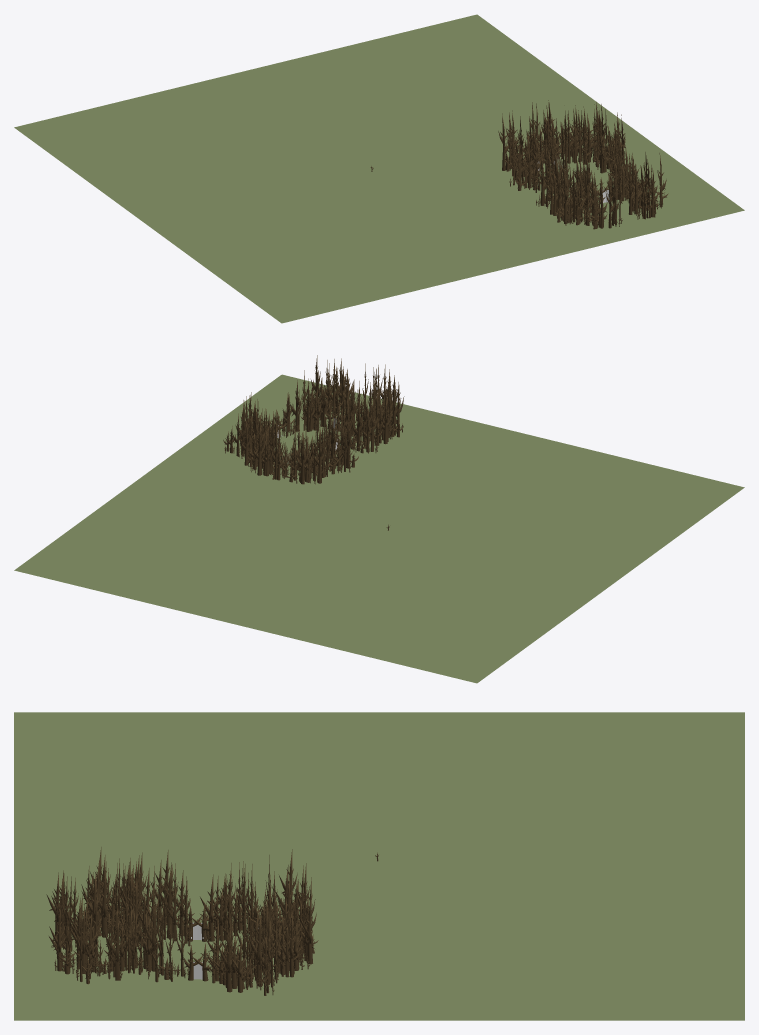
The model's file is 18728_autosave.glb.
The picture shows the model from 3 angles, top to bottom: view 1: azimuth 30°, elevation 25°; view 2: azimuth 150°, elevation 25°; view 3: azimuth 270°, elevation 25°; orthographic projection. The views are drawn at different scales.
Visible parts, largest first — view 1: Ground; view 2: Ground; view 3: Ground.
Boxes of the visible parts, x1,y1,x2,y2 form: Ground: (14,14,744,323); Ground: (14,374,744,683); Ground: (14,712,744,1020).
Size of the model in its own units: 1000 by 122 by 1002.
Materials: 13 (3 with a texture image).
